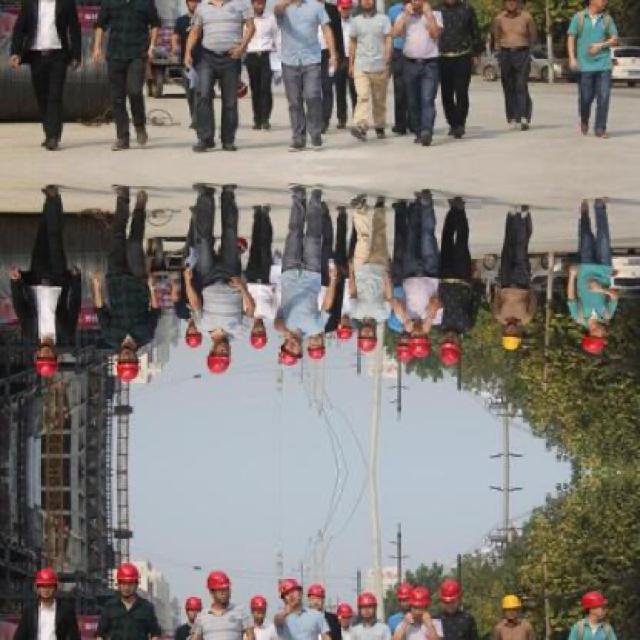con casco: (1, 339, 59, 391), (558, 316, 620, 360), (89, 333, 136, 391), (489, 312, 535, 361), (198, 333, 246, 376), (436, 321, 470, 374), (266, 338, 316, 374), (333, 309, 371, 356), (385, 322, 416, 368)
